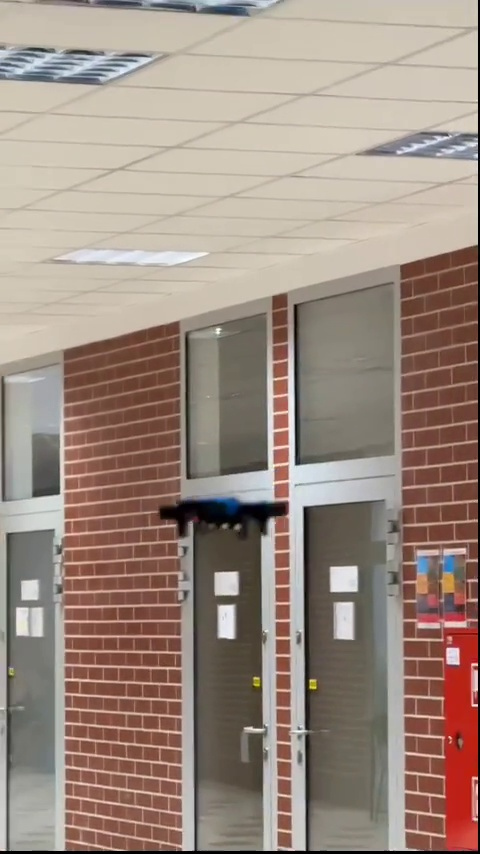drone: (157, 497, 291, 537)
